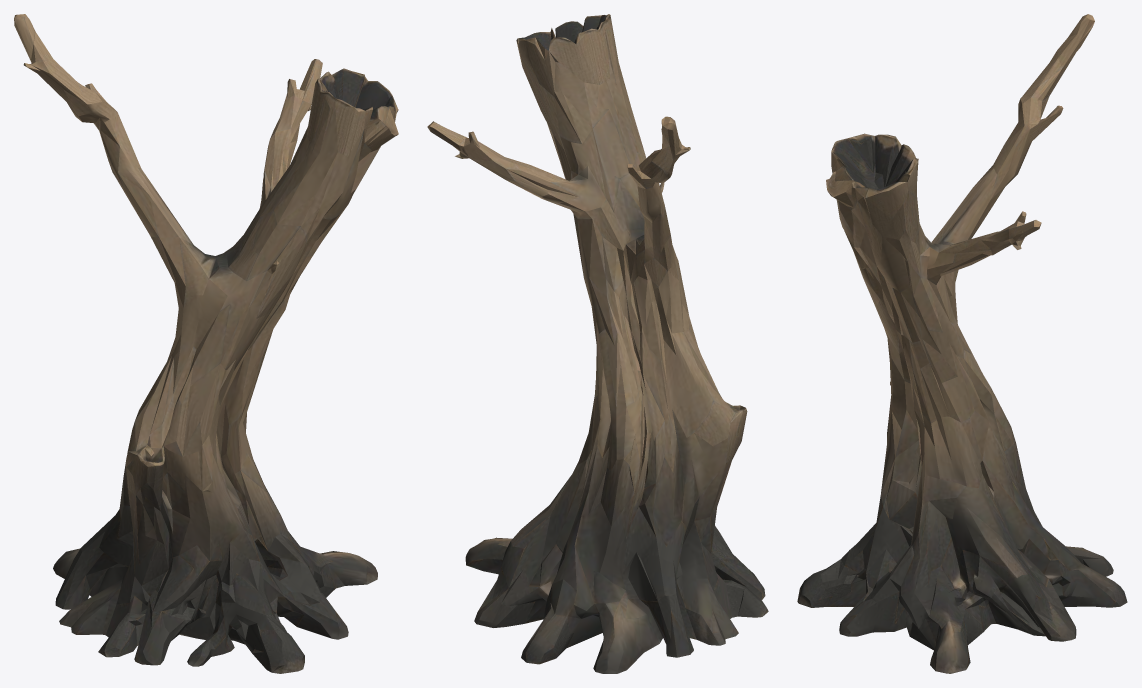
Rendered from river_snag_stump.glb.
The picture shows the model from 3 angles, left to right: view 1: azimuth 30°, elevation 25°; view 2: azimuth 150°, elevation 25°; view 3: azimuth 270°, elevation 25°; orthographic projection. The views are drawn at different scales.
Size of the model in its own units: 1.01 by 1.9 by 1.07.
Materials: 1 (1 with a texture image).
